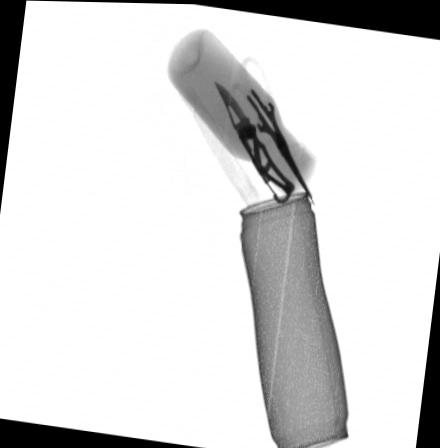Knife: (214, 78, 296, 203)
Scissors: (228, 55, 315, 202)
